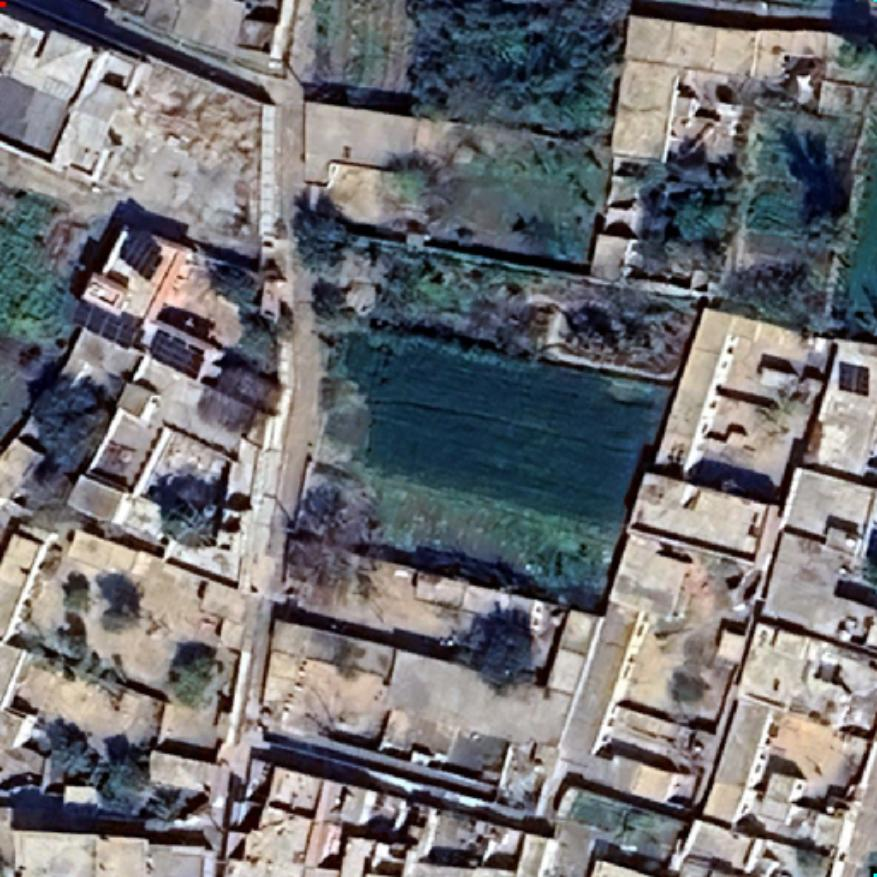Solarpanel: (70, 296, 143, 352), (116, 224, 165, 289), (147, 327, 202, 383), (834, 356, 874, 400)
